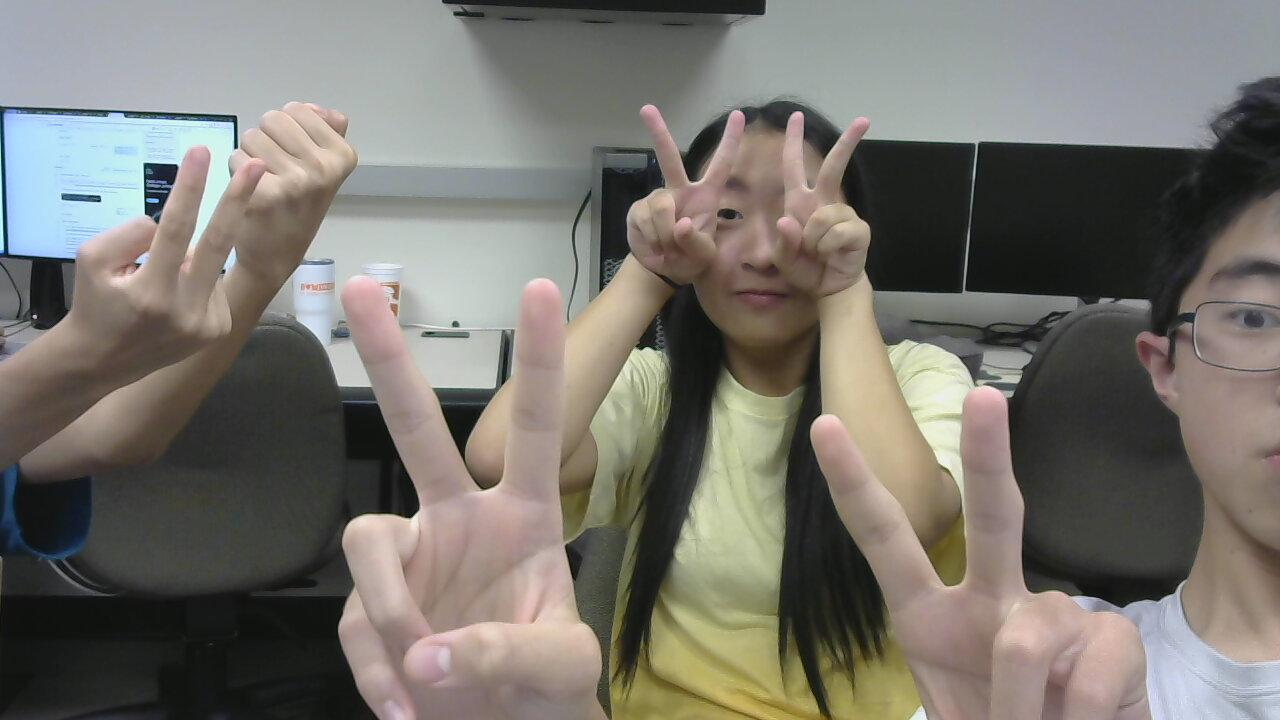fist: (236, 105, 367, 212)
peace: (322, 267, 595, 720), (797, 390, 1158, 720), (72, 147, 287, 372), (631, 58, 747, 297), (764, 102, 874, 300)
